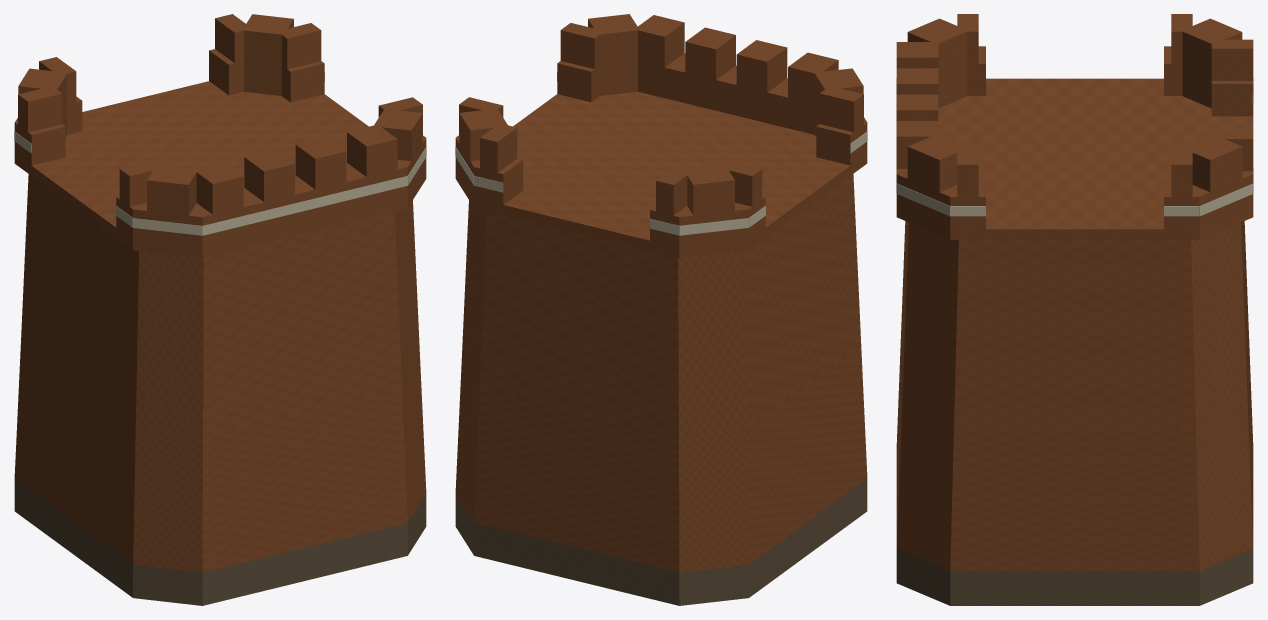
The model's file is Berber_Bastion_Age2_tee.fbx.
3 renders of one model, left to right at view 1: azimuth 30°, elevation 25°; view 2: azimuth 150°, elevation 25°; view 3: azimuth 270°, elevation 25°, orthographic. The views are drawn at different scales.
Visible parts, largest first — view 1: tee_battered_upper, tee_battered_lower, tee_continuous_walk_floor, tee_stone_foot, tee_guard_0_0, tee_merlon_7_0_0, tee_merlon_0_0_2, tee_merlon_0_0_3, tee_merlon_0_0_1, tee_owner_band_0_0, tee_merlon_0_0_0, tee_merlon_3_0_0 (+13 smaller); view 2: tee_battered_upper, tee_battered_lower, tee_continuous_walk_floor, tee_stone_foot, tee_guard_0_0, tee_merlon_0_0_1, tee_merlon_5_0_0, tee_merlon_0_0_2, tee_merlon_0_0_3, tee_merlon_1_0_0, tee_merlon_6_1_0, tee_guard_5_0 (+13 smaller); view 3: tee_battered_upper, tee_battered_lower, tee_continuous_walk_floor, tee_stone_foot, tee_merlon_1_0_0, tee_merlon_3_0_0, tee_merlon_7_0_0, tee_merlon_5_0_0, tee_merlon_4_1_0, tee_guard_4_1, tee_guard_1_0, tee_guard_3_0 (+17 smaller).
Part boxes in pixels (x1,y1,x2,y2): tee_battered_upper: (21,174,420,436); tee_battered_lower: (14,345,426,572); tee_continuous_walk_floor: (14,81,426,257); tee_stone_foot: (14,478,426,605); tee_guard_0_0: (192,160,407,247); tee_merlon_7_0_0: (147,164,197,215); tee_merlon_0_0_2: (295,137,346,189); tee_merlon_0_0_3: (347,124,397,176); tee_merlon_0_0_1: (244,149,294,201); tee_owner_band_0_0: (202,176,407,235); tee_merlon_0_0_0: (193,162,243,214); tee_merlon_3_0_0: (242,14,293,65); tee_battered_upper: (461,174,861,436); tee_battered_lower: (455,345,867,572); tee_continuous_walk_floor: (455,91,867,257); tee_stone_foot: (455,478,867,605); tee_guard_0_0: (638,53,814,134); tee_merlon_0_0_1: (736,40,787,92); tee_merlon_5_0_0: (685,164,734,215); tee_merlon_0_0_2: (685,27,735,79); tee_merlon_0_0_3: (634,15,684,67); tee_merlon_1_0_0: (588,14,638,65); tee_merlon_6_1_0: (819,86,863,132); tee_guard_5_0: (677,202,748,247); tee_battered_upper: (902,221,1247,428); tee_battered_lower: (896,313,1253,570); tee_continuous_walk_floor: (896,78,1253,239); tee_stone_foot: (896,548,1253,605); tee_merlon_1_0_0: (907,134,968,192); tee_merlon_3_0_0: (1183,134,1242,192); tee_merlon_7_0_0: (907,18,967,75); tee_merlon_5_0_0: (1181,18,1242,75); tee_merlon_4_1_0: (1211,39,1253,80); tee_guard_4_1: (1211,81,1253,116); tee_guard_1_0: (896,170,979,228); tee_guard_3_0: (1192,171,1253,228).
Size of the model in its own units: 601 by 820 by 601.
3 materials, 3 textured.
